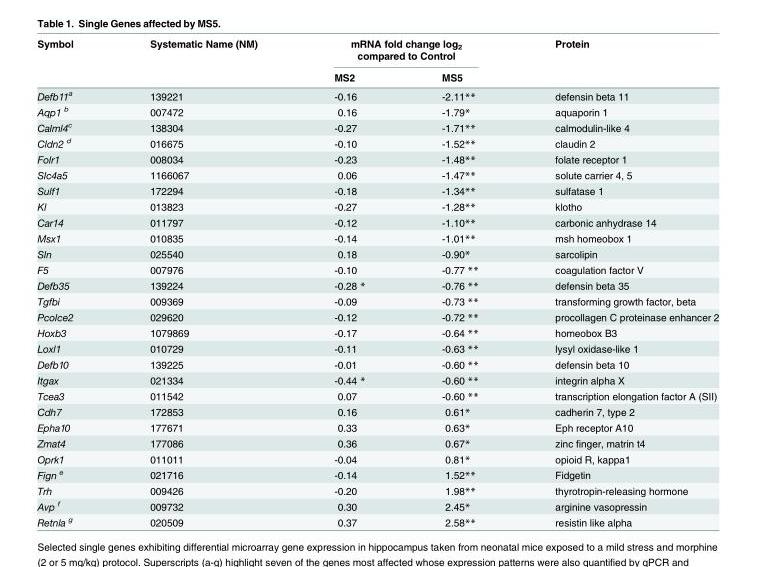table: (36, 37, 718, 528)
table column: (516, 37, 718, 528), (110, 37, 295, 528), (402, 37, 516, 528), (295, 37, 402, 528), (36, 37, 110, 528)
table column header: (36, 37, 718, 85)
table row: (36, 37, 718, 65), (36, 65, 718, 85), (36, 85, 718, 103), (36, 134, 718, 151), (36, 118, 718, 134), (36, 166, 718, 182), (36, 182, 718, 198), (36, 198, 718, 214), (36, 214, 718, 230), (36, 245, 718, 261), (36, 261, 718, 277), (36, 277, 718, 293), (36, 308, 718, 324), (36, 324, 718, 340), (36, 340, 718, 356), (36, 356, 718, 372), (36, 387, 718, 403), (36, 403, 718, 419), (36, 419, 718, 435), (36, 450, 718, 466), (36, 466, 718, 482), (36, 497, 718, 513), (36, 103, 718, 118), (36, 151, 718, 166), (36, 230, 718, 245), (36, 293, 718, 308), (36, 372, 718, 387), (36, 435, 718, 450), (36, 482, 718, 497), (36, 513, 718, 528)
table spanning cell: (516, 37, 718, 85), (110, 37, 295, 85), (295, 37, 516, 65), (36, 37, 110, 85)
